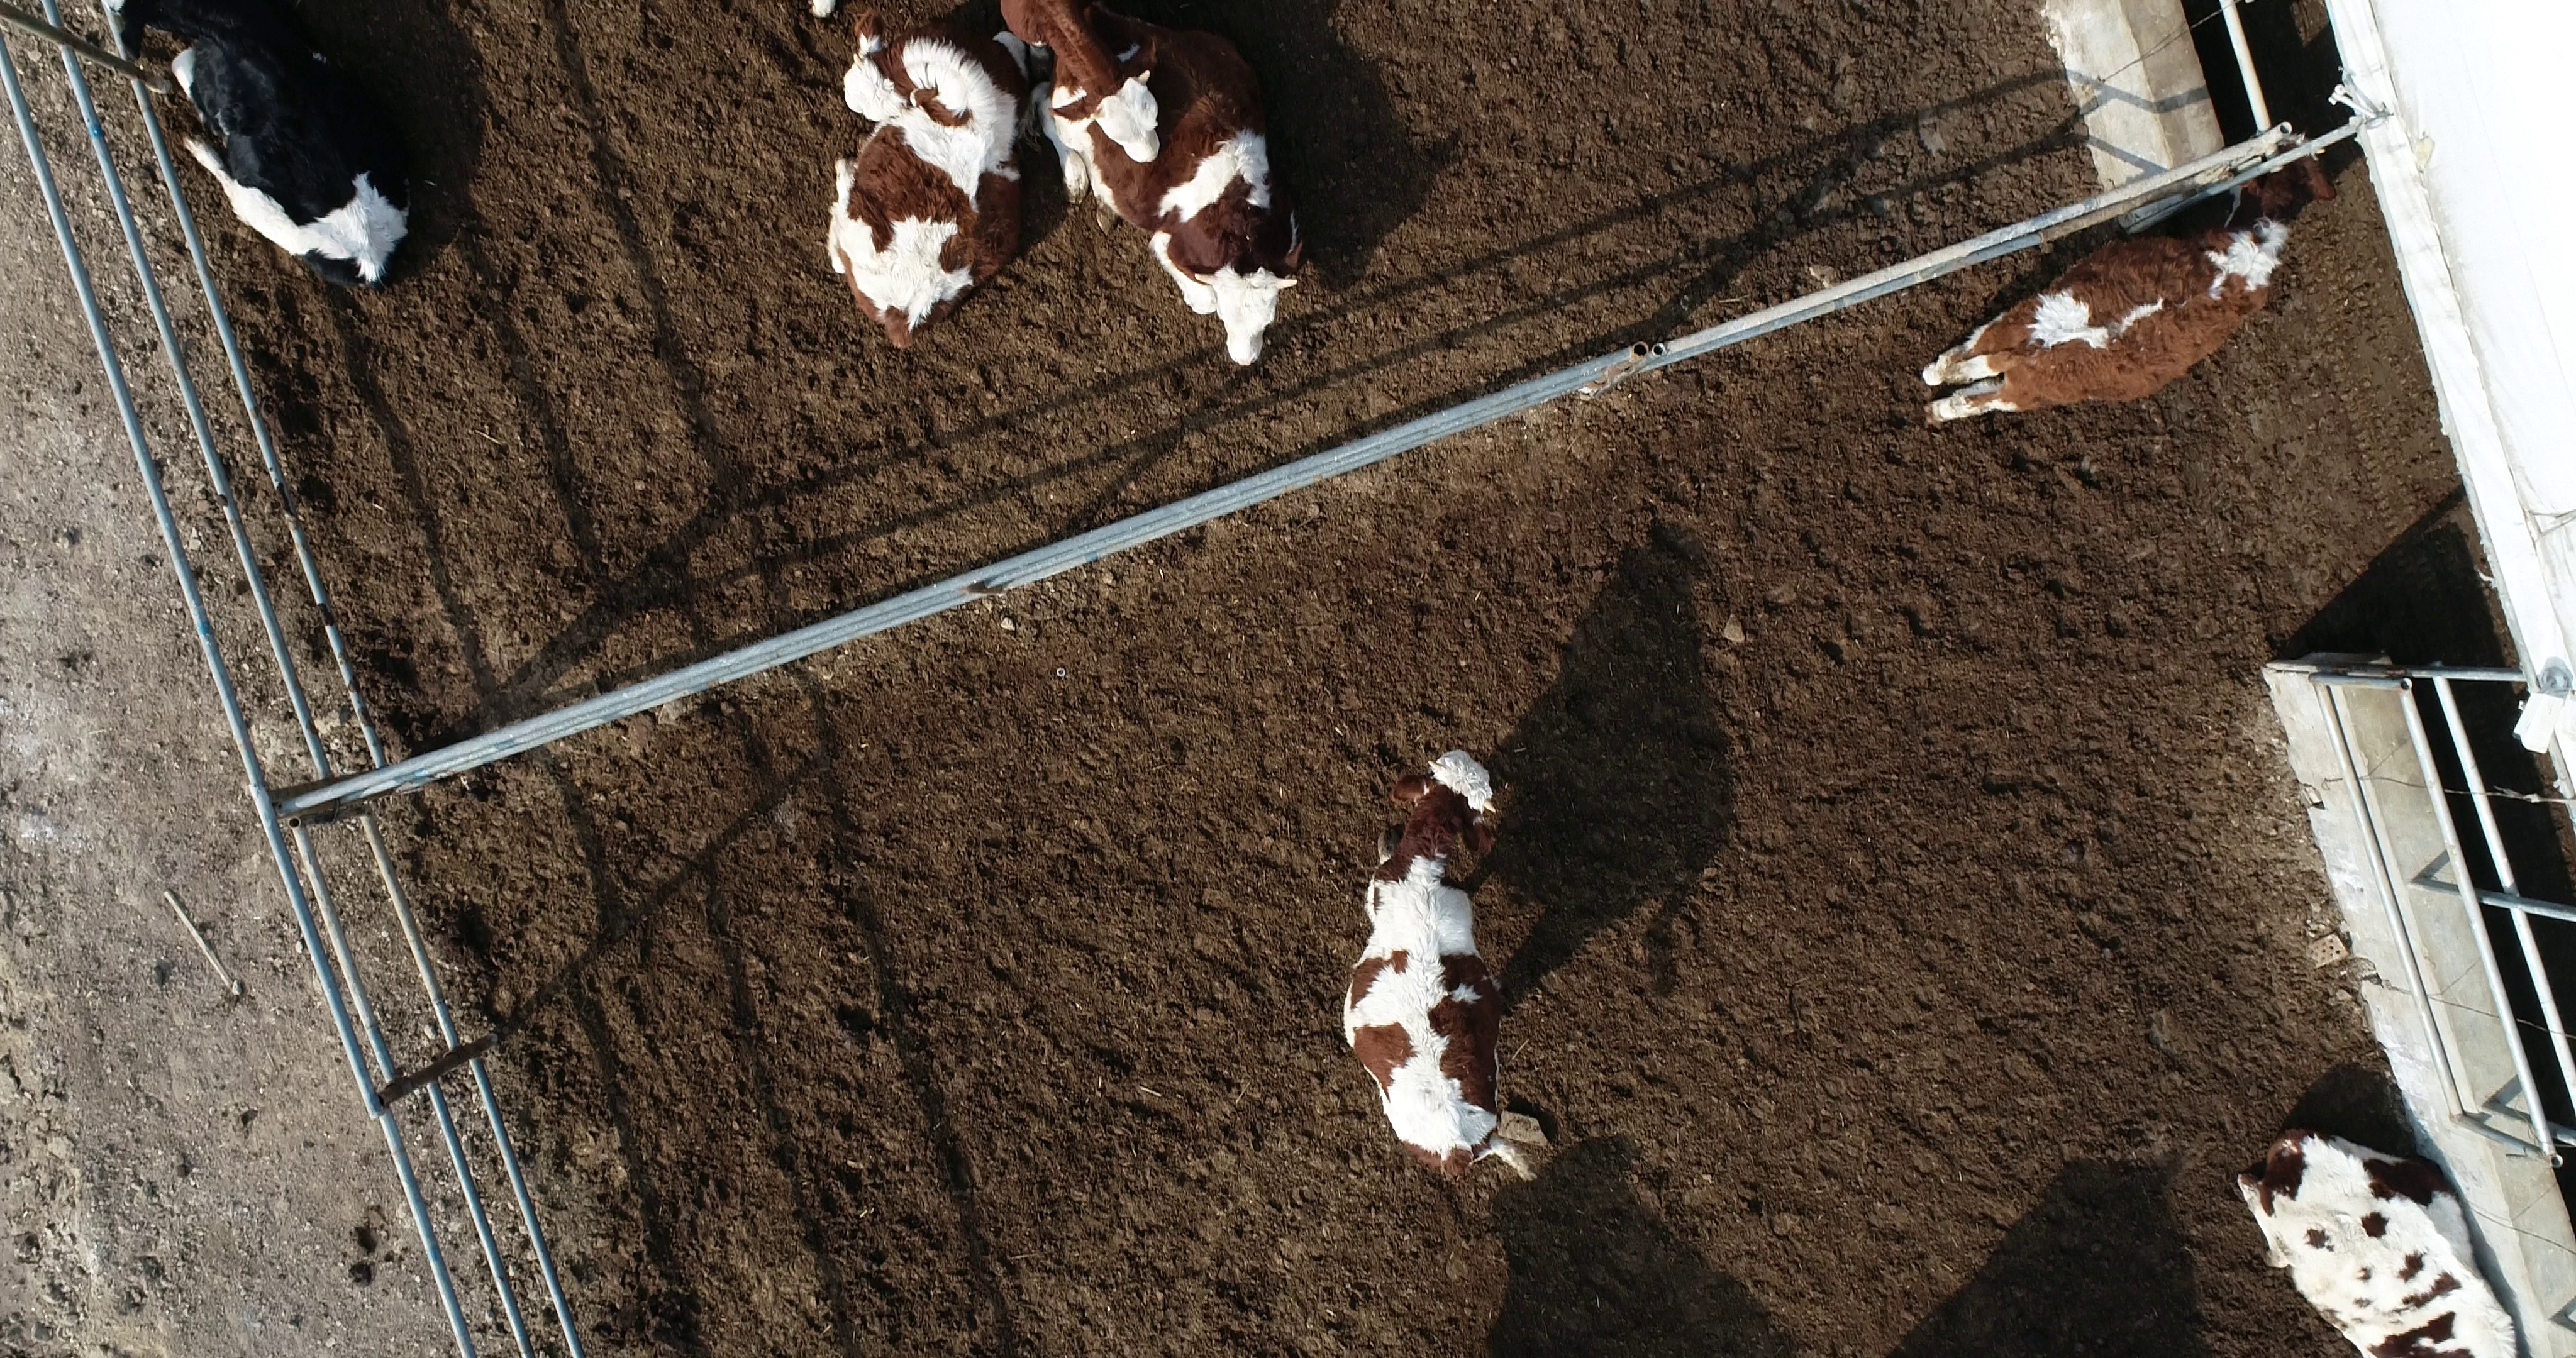cattle: (1922, 128, 2337, 434), (1331, 739, 1554, 1188), (821, 22, 1044, 361)
